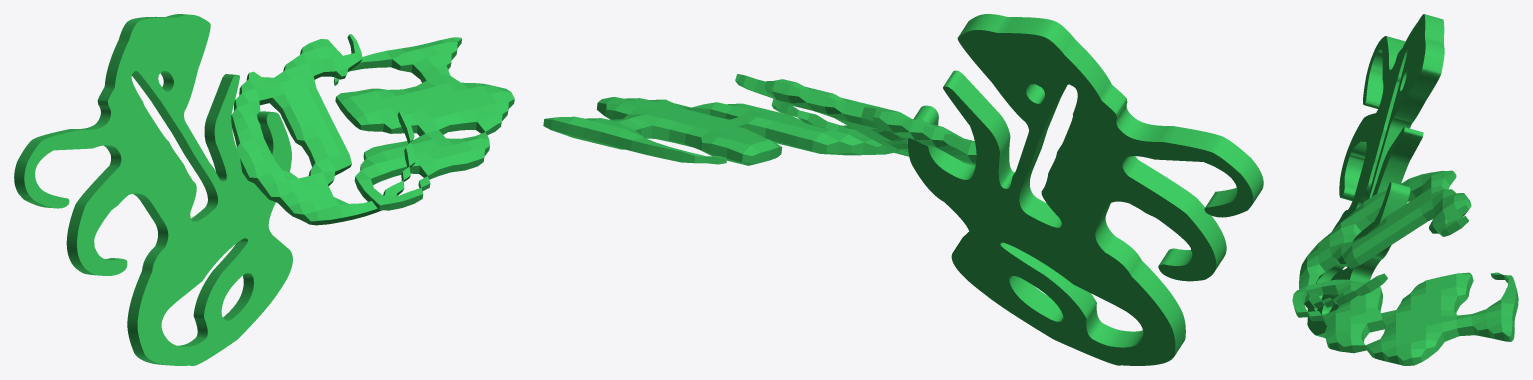
Rendered from lcs_green.glb.
3 renders of one model, left to right at view 1: azimuth 30°, elevation 25°; view 2: azimuth 150°, elevation 25°; view 3: azimuth 270°, elevation 25°, orthographic. The views are drawn at different scales.
Parts seen in each view (by area): view 1: L.001, S.001, C.001; view 2: L.001, S.001, C.001; view 3: L.001, S.001, C.001.
Part boxes in pixels (box(x1,y1,x2,y2)): L.001: box(14, 14, 292, 365); S.001: box(334, 37, 514, 210); C.001: box(231, 34, 415, 225); L.001: box(908, 14, 1263, 365); S.001: box(543, 97, 900, 165); C.001: box(735, 74, 976, 165); L.001: box(1307, 14, 1444, 338); S.001: box(1292, 272, 1518, 365); C.001: box(1299, 170, 1471, 308).
Size of the model in its own units: 7.2 by 4.19 by 2.71.
